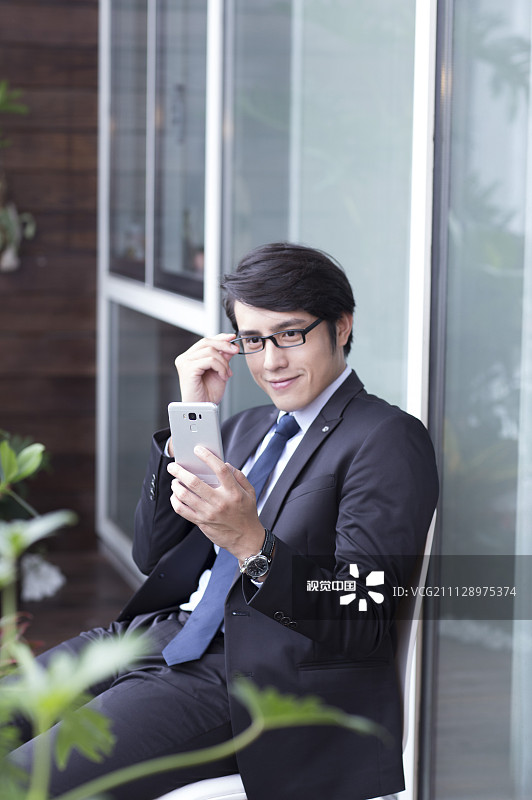reading: (142, 419, 272, 565)
